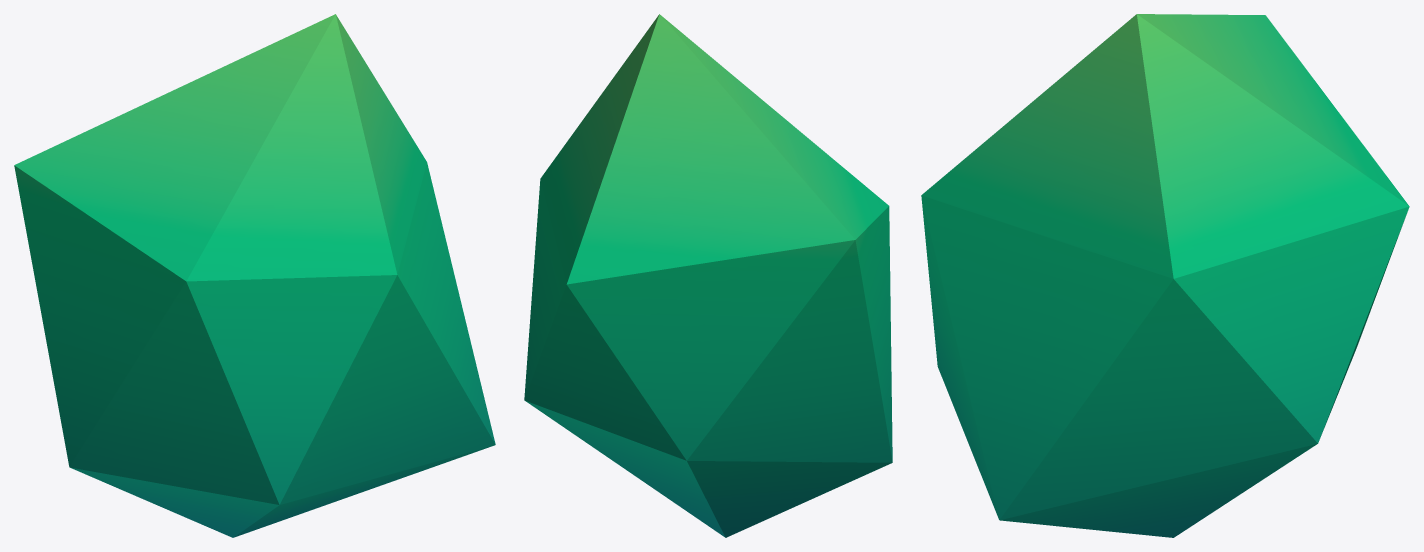
Rendered from Crystall_1.fbx.
3 renders of one model, left to right at view 1: azimuth 30°, elevation 25°; view 2: azimuth 150°, elevation 25°; view 3: azimuth 270°, elevation 25°, orthographic. The views are drawn at different scales.
Parts seen in each view (by area): view 1: Crystall_1; view 2: Crystall_1; view 3: Crystall_1.
Boxes of the visible parts, x1,y1,x2,y2 form: Crystall_1: [14, 14, 495, 537]; Crystall_1: [524, 14, 892, 537]; Crystall_1: [921, 14, 1409, 537].
Bounding box in the file's own units: 101 × 134 × 104.
